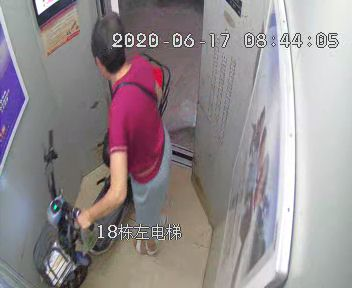Electric-bicycle: (36, 60, 166, 286)
